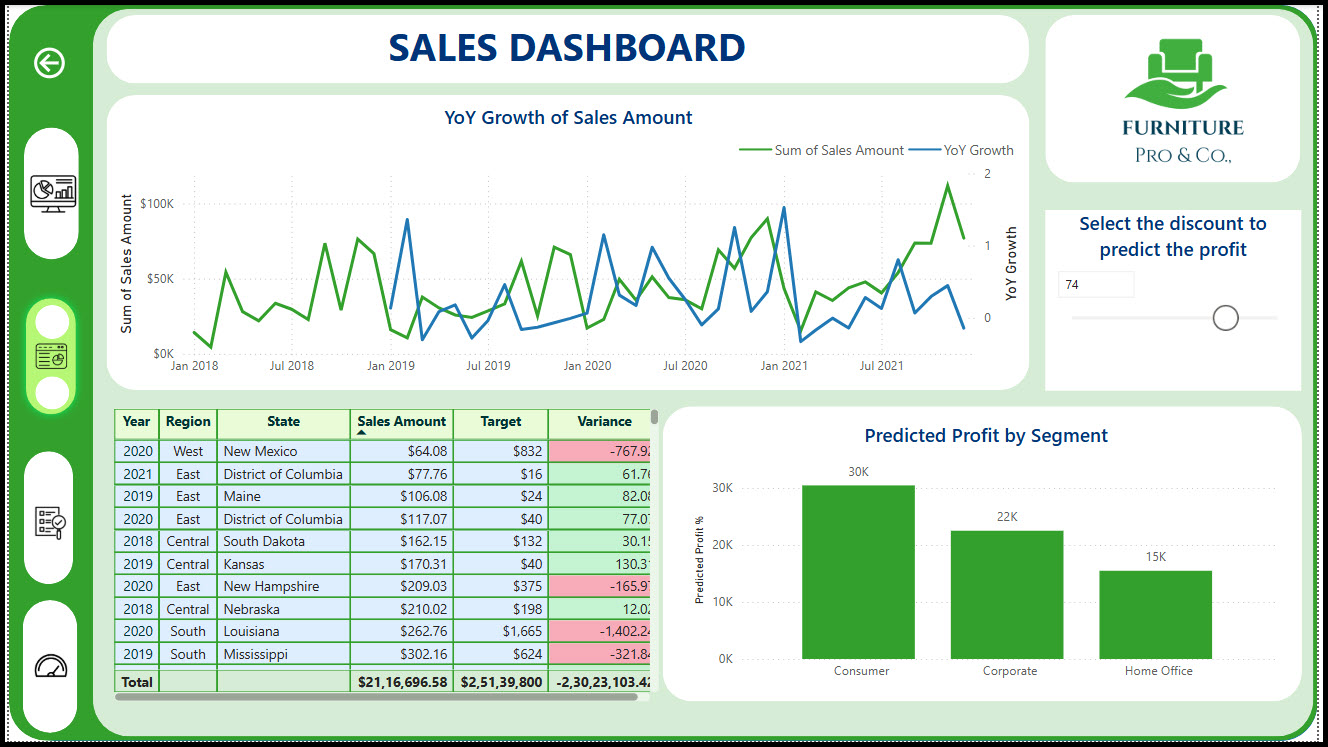

Layout of this report page (visuals, bound fields, positions):
{"tool":"powerbi","page":{"name":"2. YoY Growth","canvas":[1280,720],"ordinal":1},"visuals":[{"type":"shape","box":[9.8,0,1270.5,720.2],"z":0},{"type":"shape","box":[0,0,1280.2,719.8],"z":1000},{"type":"shape","box":[82.3,3.2,1194.5,712.3],"z":2000},{"type":"shape","box":[15,120,53.8,129.4],"z":3000},{"type":"shape","box":[8.6,278.8,64.8,129.6],"z":4000},{"type":"shape","box":[15,436,48,130],"z":5000},{"type":"shape","box":[95.7,88.6,902.9,288.6],"z":6000},{"type":"shape","box":[1014.1,9.9,249.5,163.8],"z":15000},{"type":"shape","box":[95.6,9.9,902.4,67],"z":16000},{"type":"image","box":[1045.2,0,191.2,178.7],"z":17000},{"type":"textbox","box":[100.5,9.9,891.2,67],"z":18000},{"type":"lineChart","title":"YoY Growth of Sales Amount","fields":{"Category":["Date.Date.Variation.Date Hierarchy.Year","Date.Date.Variation.Date Hierarchy.Quarter","Date.Date.Variation.Date Hierarchy.Month"],"Y2":["Measures tables.YoY Growth"],"Y":["Sum(Orders.Sales Amount)"]},"box":[102,96.4,891.4,274.9],"z":19000},{"type":"tableEx","fields":{"Values":["Date.Year","Orders.Region","Orders.State","Sum(Orders.Sales Amount)","Sum(Orders.Target)","Sum(Orders.Variance)"]},"box":[96.4,389.7,544.2,296.2],"z":20000},{"type":"slicer","title":"Select the discount to predict the profit","fields":{"Values":["Discount%.Discount%"]},"box":[1014.3,200,250,177.1],"z":21000},{"type":"image","box":[5.8,151.7,74.2,66.7],"z":22000},{"type":"image","box":[15,319.4,53.8,48.8],"z":23000},{"type":"image","box":[18.3,485.8,45,43.3],"z":24000},{"type":"actionButton","box":[1,435,80,130],"z":25000},{"type":"actionButton","box":[0,285.6,80,115.6],"z":26000},{"type":"actionButton","box":[1.7,119.2,80,130],"z":27000},{"type":"actionButton","box":[20,37.1,60,40],"z":28000},{"type":"shape","box":[639.5,392.2,625.2,288.7],"z":29000},{"type":"columnChart","title":"Predicted Profit by Segment","fields":{"Category":["Orders.Segment"],"Y":["Measures tables.Predicted Profit %"]},"box":[665.4,407.8,581.2,262.8],"z":30000},{"type":"shape","box":[25.6,363.3,33.3,32.5],"z":31000},{"type":"shape","box":[25.6,293.3,33.3,33.3],"z":32000},{"type":"shape","box":[13.3,582.5,53.3,130],"z":33000},{"type":"image","box":[15.8,619.2,50.8,56.7],"z":34000},{"type":"actionButton","box":[12.7,582.7,52.7,130],"z":35000},{"type":"actionButton","box":[10,582.9,52.9,130],"z":36000}]}

Visuals, with their boxes in screenshot pixels (x1, y1, x2, y2), scaled from the page's 1280x720 canvas onto the 1328x747 screenshot:
shape: (left=10, top=0, right=1327, bottom=746)
shape: (left=0, top=0, right=1327, bottom=746)
shape: (left=85, top=3, right=1325, bottom=742)
shape: (left=16, top=125, right=71, bottom=259)
shape: (left=9, top=289, right=76, bottom=424)
shape: (left=16, top=452, right=65, bottom=587)
shape: (left=99, top=92, right=1036, bottom=391)
shape: (left=1052, top=10, right=1311, bottom=180)
shape: (left=99, top=10, right=1035, bottom=80)
image: (left=1084, top=0, right=1283, bottom=185)
textbox: (left=104, top=10, right=1029, bottom=80)
"YoY Growth of Sales Amount" lineChart: (left=106, top=100, right=1031, bottom=385)
tableEx - Date.Year x Orders.Region: (left=100, top=404, right=665, bottom=712)
"Select the discount to predict the profit" slicer: (left=1052, top=208, right=1312, bottom=391)
image: (left=6, top=157, right=83, bottom=227)
image: (left=16, top=331, right=71, bottom=382)
image: (left=19, top=504, right=66, bottom=549)
actionButton: (left=1, top=451, right=84, bottom=586)
actionButton: (left=0, top=296, right=83, bottom=416)
actionButton: (left=2, top=124, right=85, bottom=259)
actionButton: (left=21, top=38, right=83, bottom=80)
shape: (left=663, top=407, right=1312, bottom=706)
"Predicted Profit by Segment" columnChart: (left=690, top=423, right=1293, bottom=696)
shape: (left=27, top=377, right=61, bottom=411)
shape: (left=27, top=304, right=61, bottom=339)
shape: (left=14, top=604, right=69, bottom=739)
image: (left=16, top=642, right=69, bottom=701)
actionButton: (left=13, top=605, right=68, bottom=739)
actionButton: (left=10, top=605, right=65, bottom=740)
